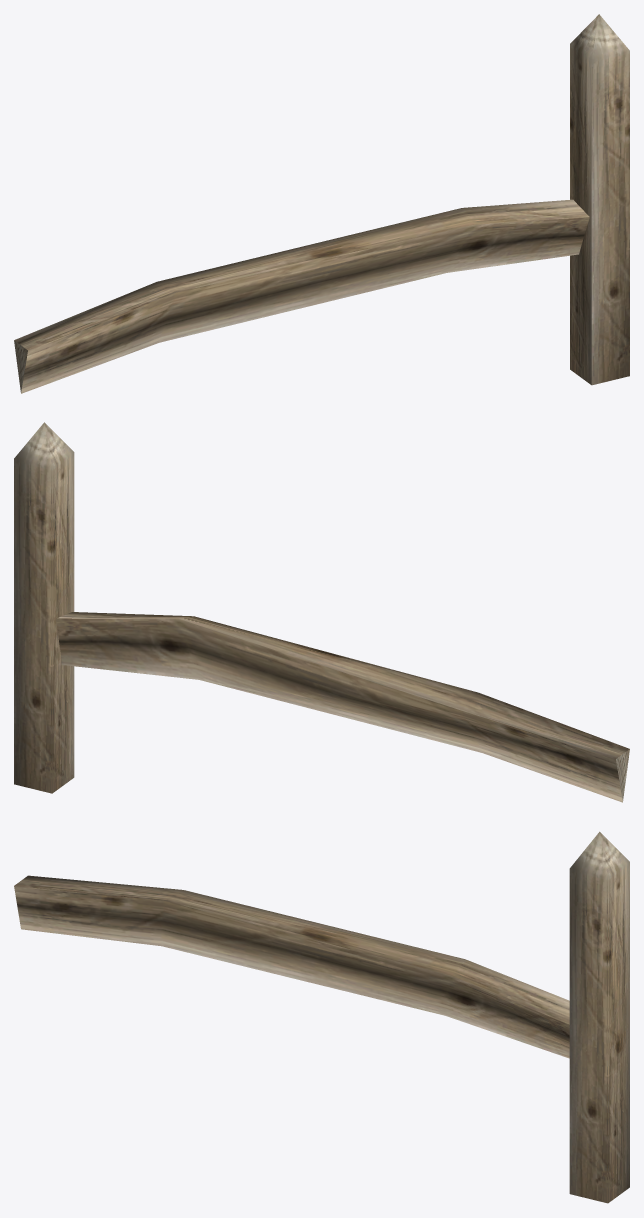
Rendered from duskwoodfencebottom.obj.
3 views of the same model, one above another, from view 1: azimuth 30°, elevation 25°; view 2: azimuth 150°, elevation 25°; view 3: azimuth 330°, elevation 25° (orthographic).
Bounding box in the file's own units: 4.29 × 2.46 × 0.3136.
